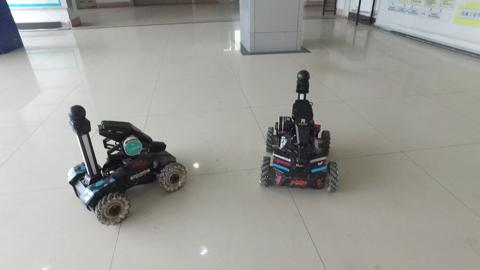chariot: (64, 103, 190, 227), (252, 68, 343, 194)
